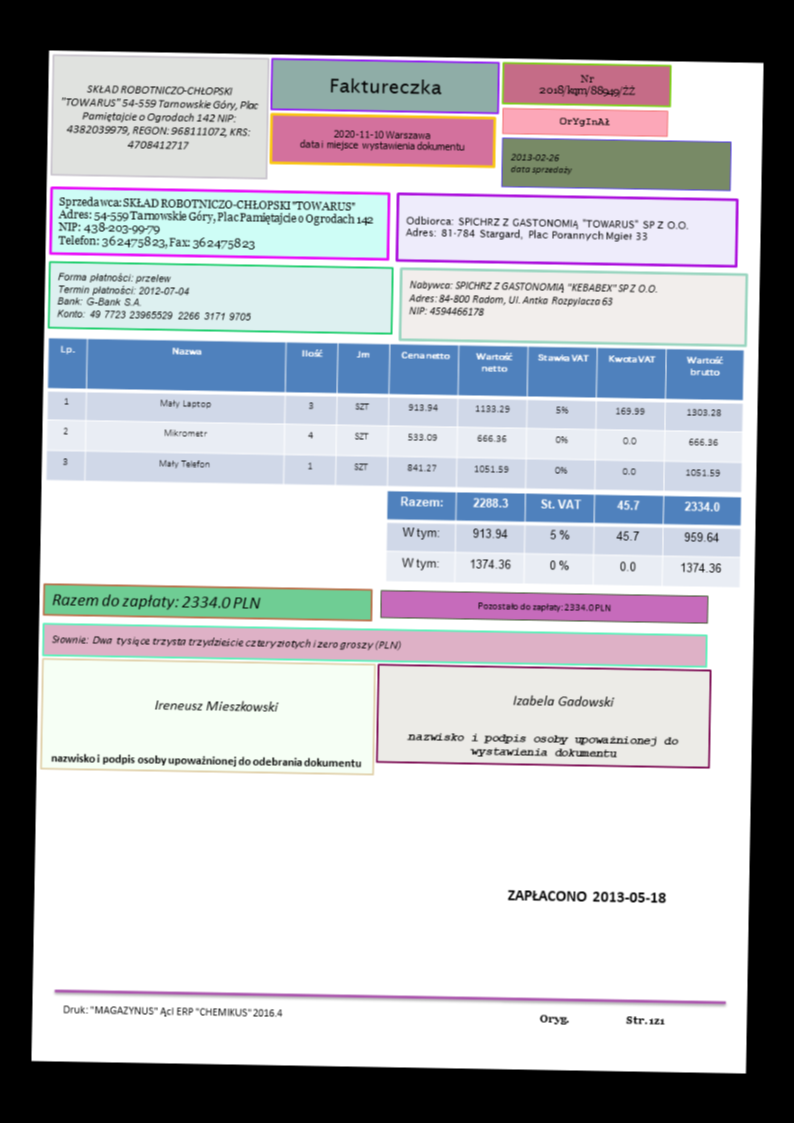Table: (44, 336, 745, 492), (383, 489, 743, 589)
TextBox: (55, 192, 377, 253), (58, 80, 263, 155), (406, 276, 661, 322), (54, 268, 254, 324), (401, 211, 691, 245), (403, 728, 681, 761), (50, 631, 402, 653), (48, 748, 363, 771), (49, 587, 262, 614), (60, 1000, 283, 1023), (296, 126, 468, 154), (502, 884, 670, 906), (536, 69, 637, 101), (150, 694, 279, 717), (327, 75, 442, 97), (510, 689, 617, 712), (537, 1010, 668, 1028), (474, 597, 615, 613), (507, 150, 574, 179), (556, 113, 611, 130)
